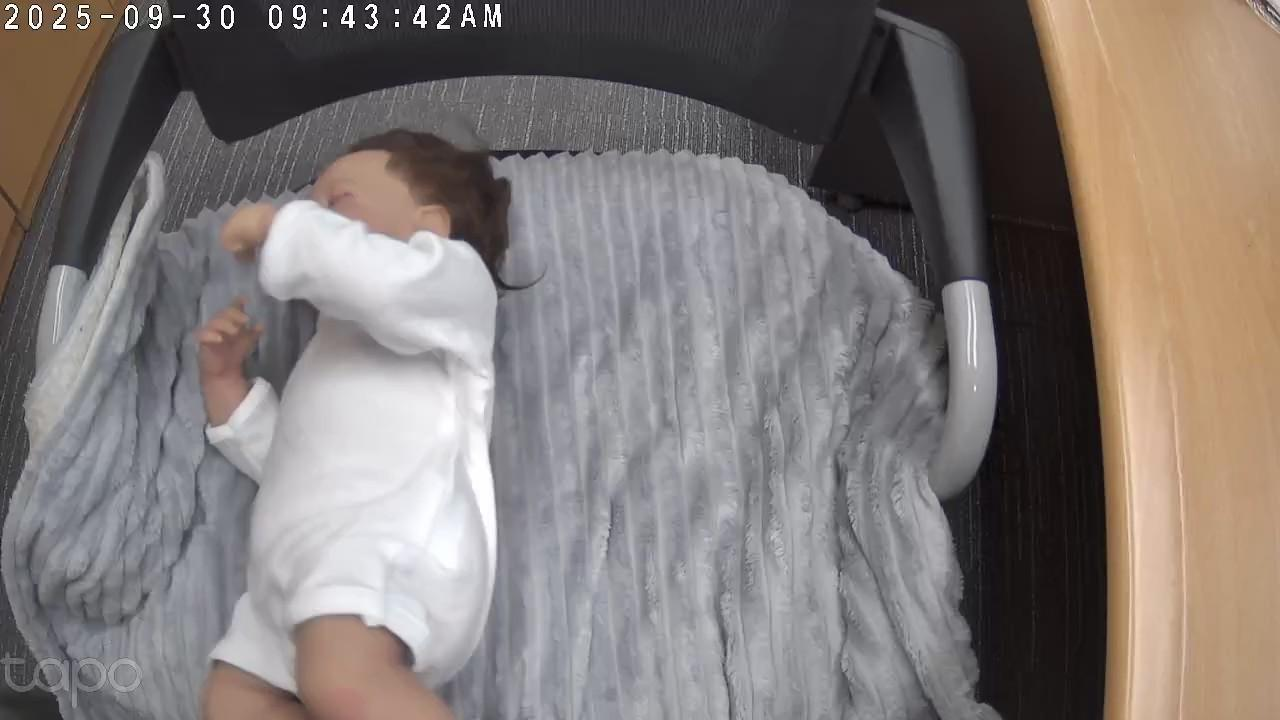hand: (196, 294, 269, 372), (220, 201, 271, 256)
